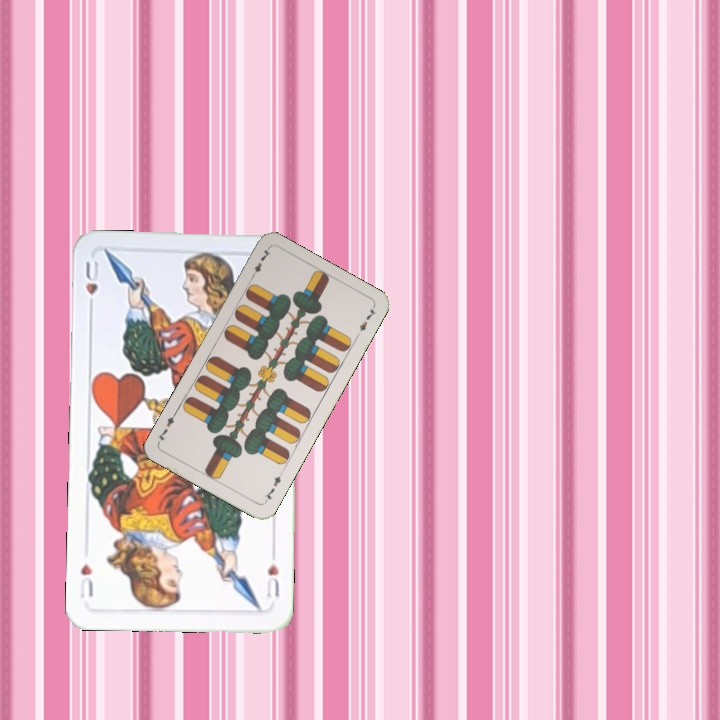E7: (246, 245, 273, 282), (260, 468, 285, 506)
HU: (81, 257, 101, 314), (262, 559, 282, 600)
